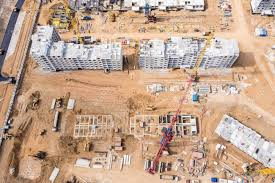crane: (150, 34, 211, 172)
